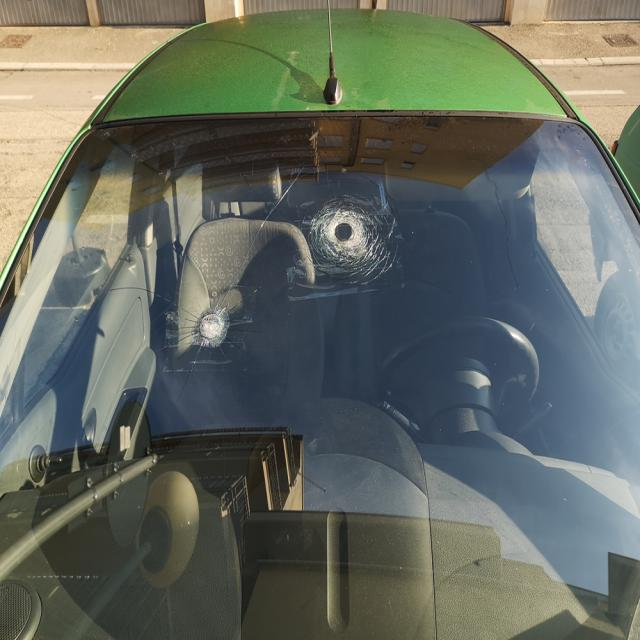Fissure: (98, 158, 310, 388), (297, 183, 405, 299)
